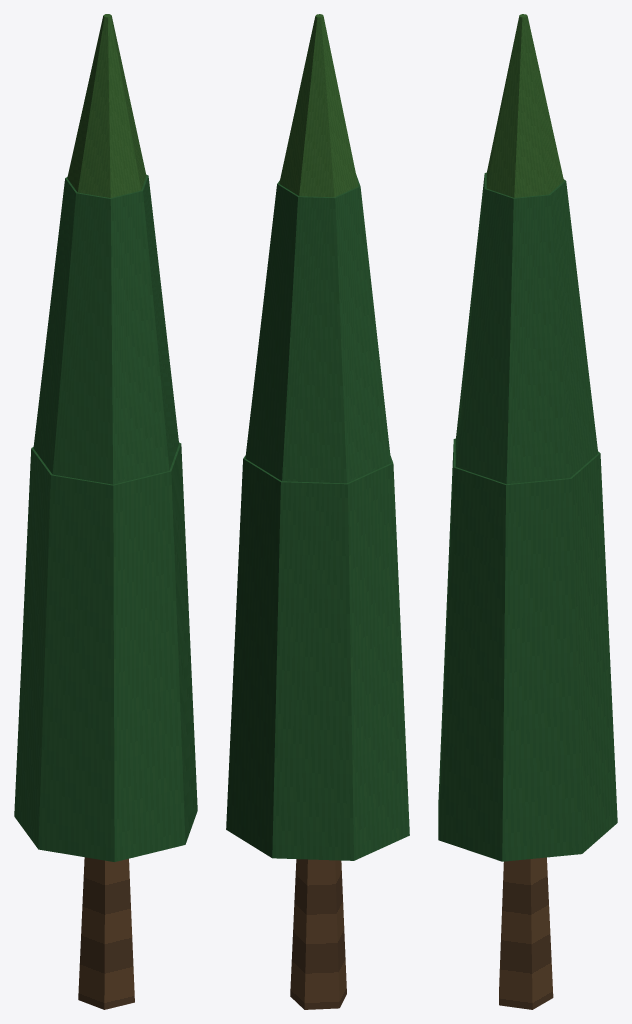
File: tree-cypress-lod0.glb
The picture shows the model from 3 angles, left to right: view 1: azimuth 30°, elevation 25°; view 2: azimuth 150°, elevation 25°; view 3: azimuth 270°, elevation 25°; orthographic projection.
Parts seen in each view (by area): view 1: tree-cypress-lod0; view 2: tree-cypress-lod0; view 3: tree-cypress-lod0.
Part boxes in pixels (x1,y1,x2,y2): tree-cypress-lod0: [14, 14, 197, 1009]; tree-cypress-lod0: [226, 14, 409, 1009]; tree-cypress-lod0: [438, 14, 617, 1009].
Size of the model in its own units: 0.8579 by 5.05 by 0.8364.
1 material, 1 textured.
